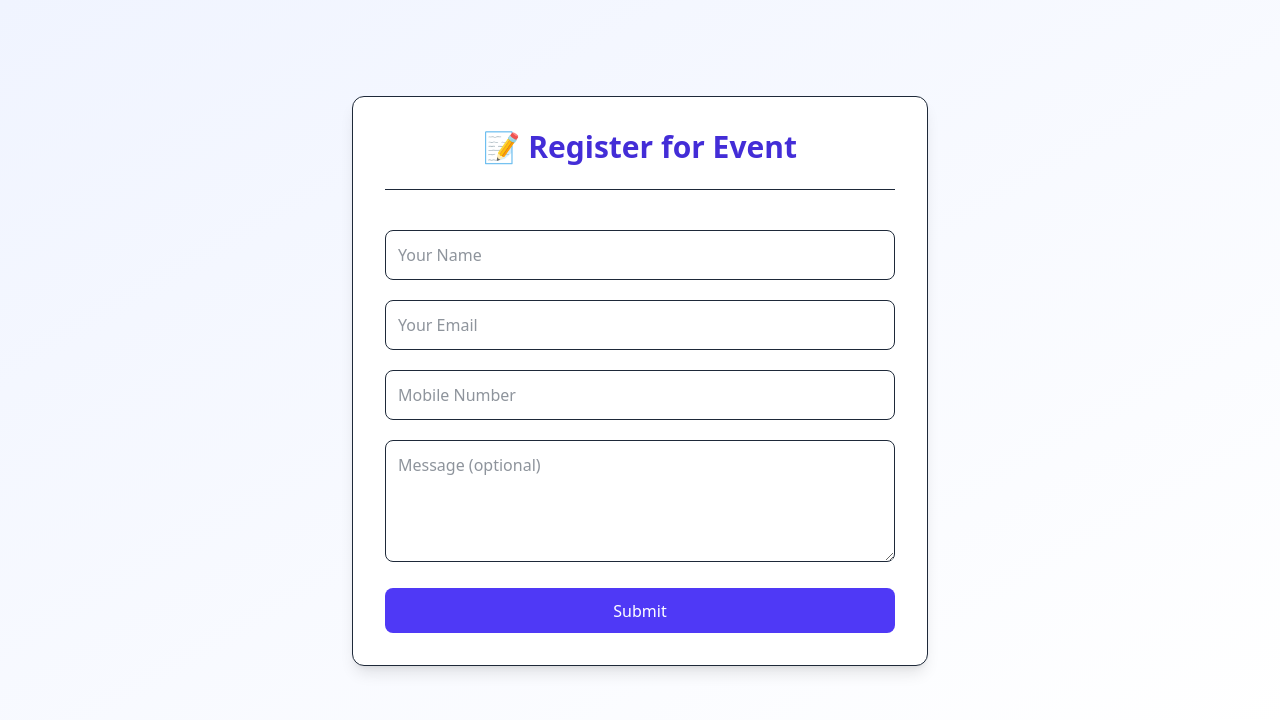
it: RegisterEvent Page › shows validation errors on empty submit
Click the button "Submit". click: (640, 611)
box: 385,588 -> 895,633
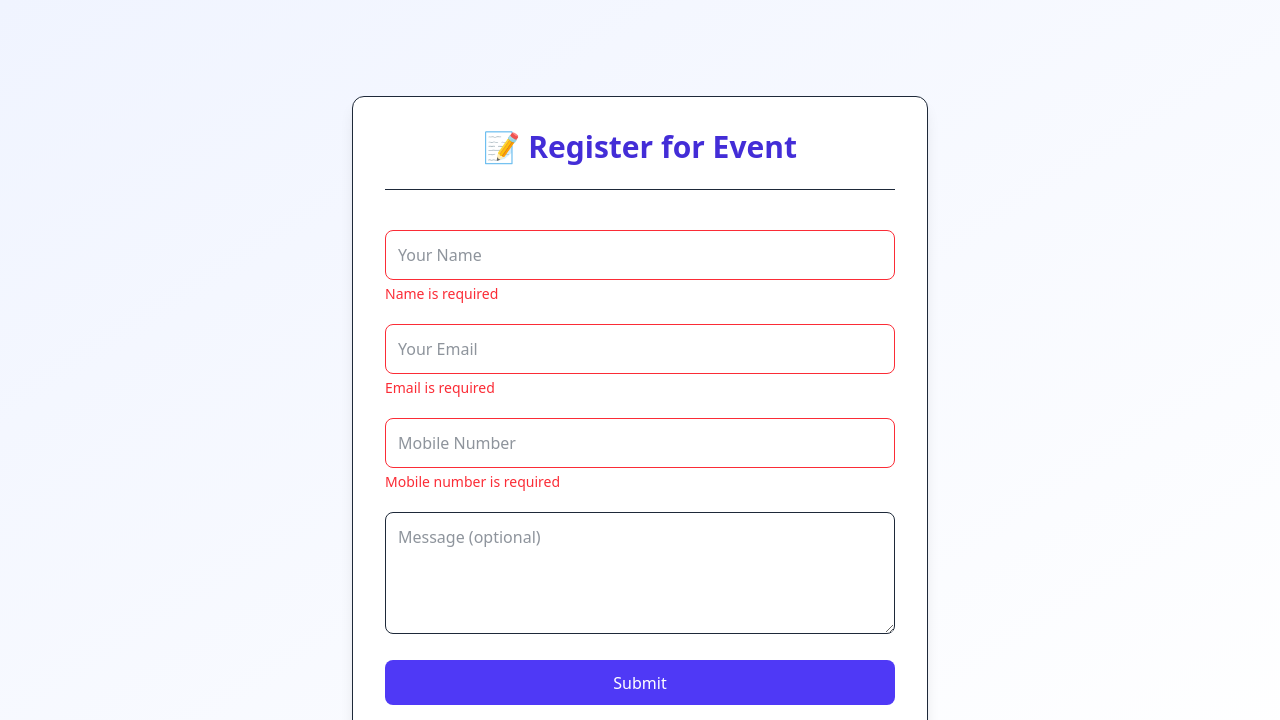
Check: the text "Name is required" is shown, box 385,284 -> 498,303
Check: the text "Email is required" is shown, box 385,378 -> 495,397
Check: the text "Mobile number is required" is shown, box 385,472 -> 560,491
